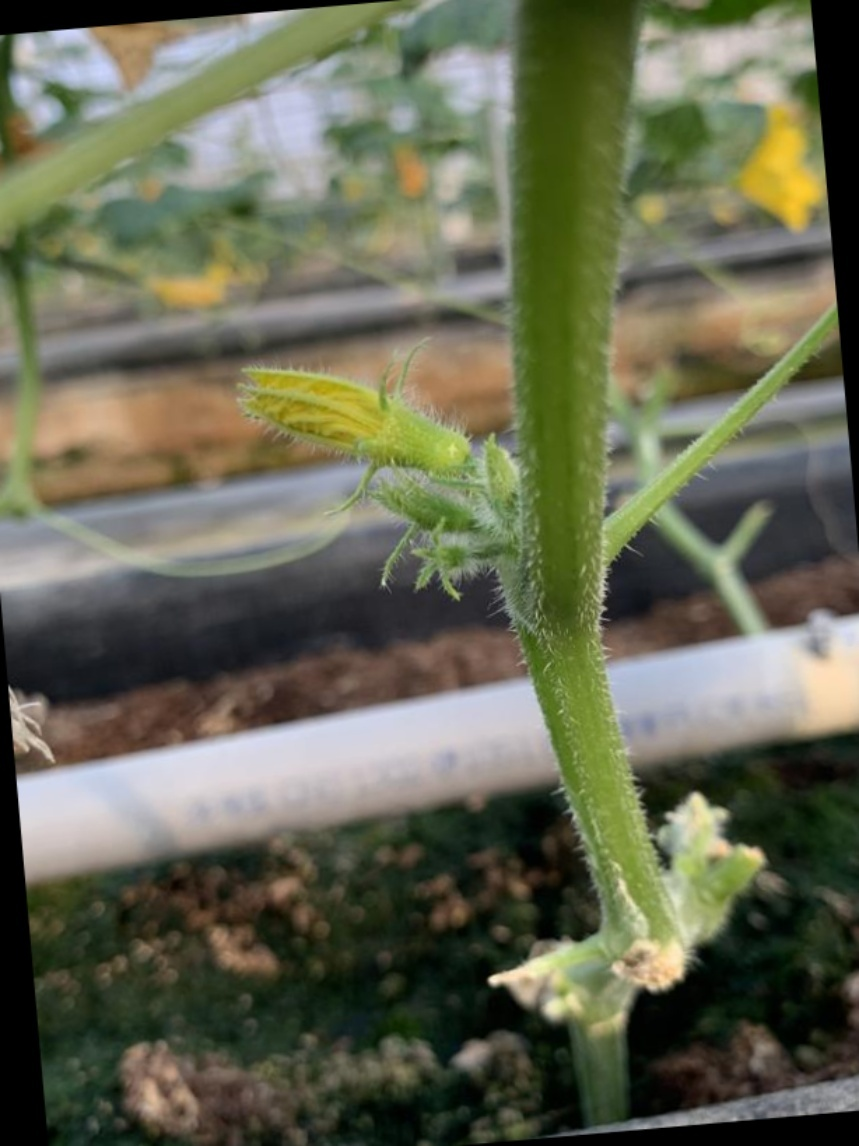bud: (233, 335, 455, 524)
